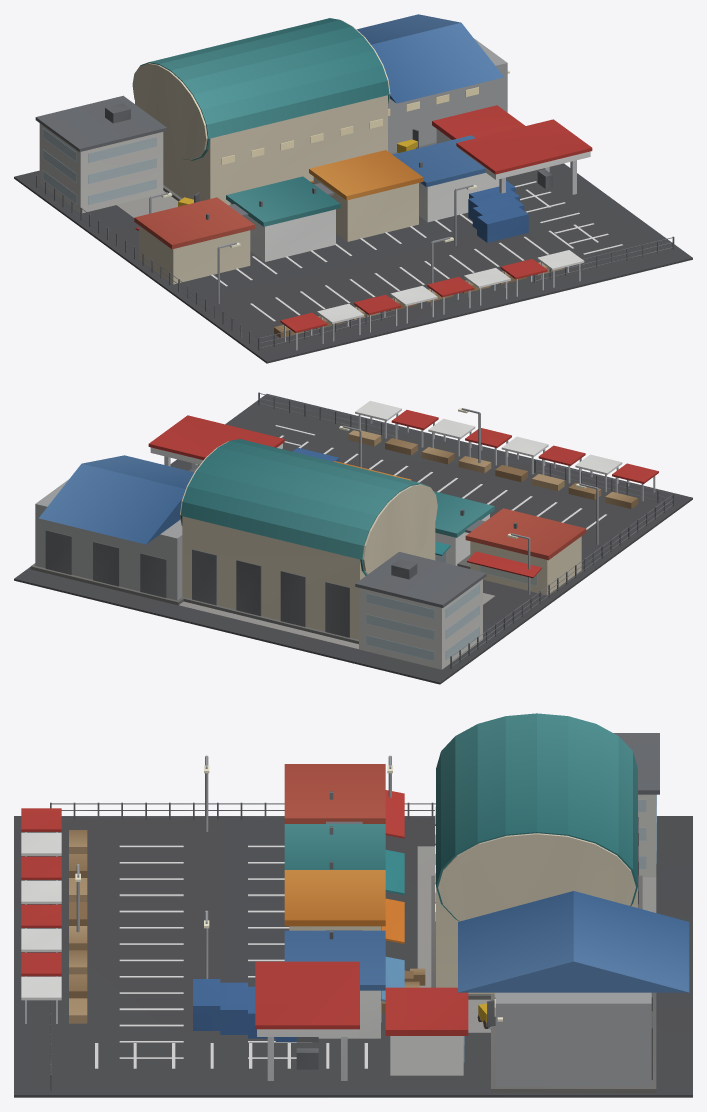
Rendered from Market_P3.fbx.
3 views of the same model, one above another, from view 1: azimuth 30°, elevation 25°; view 2: azimuth 150°, elevation 25°; view 3: azimuth 270°, elevation 25° (orthographic). The views are drawn at different scales.
Visible parts, largest first — view 1: Market.Pad, Market.WH1, Market.WH2, Market.Office, Market.Shop0, Market.Shop2, Market.Shop1, Market.Stalls, Market.Fuel, Market.Shop3, Market.Fence, Market.Goods (+2 smaller); view 2: Market.WH1, Market.Pad, Market.WH2, Market.Office, Market.Stalls, Market.Shop0, Market.Fuel, Market.Fence, Market.Shop1, Market.Bays; view 3: Market.Pad, Market.WH1, Market.WH2, Market.Stalls, Market.Fuel, Market.FuelShop, Market.Shop2, Market.Shop0, Market.Shop3, Market.Shop1, Market.Bays, Market.Goods (+2 smaller).
Part boxes in pixels (box(x1,y1,x2,y2)): Market.Pad: box(14, 163, 692, 363); Market.WH1: box(132, 18, 390, 205); Market.WH2: box(357, 14, 507, 154); Market.Office: box(35, 95, 166, 213); Market.Shop0: box(134, 197, 254, 284); Market.Shop2: box(309, 150, 423, 241); Market.Shop1: box(226, 176, 340, 261); Market.Stalls: box(274, 250, 584, 350); Market.Fuel: box(456, 119, 592, 194); Market.Shop3: box(392, 135, 499, 222); Market.Fence: box(36, 175, 674, 350); Market.Goods: box(468, 180, 528, 242); Market.WH1: box(180, 439, 437, 643); Market.Pad: box(14, 394, 692, 684); Market.WH2: box(30, 455, 194, 605); Market.Office: box(355, 552, 486, 669); Market.Stalls: box(348, 401, 658, 508); Market.Shop0: box(465, 508, 586, 595); Market.Fuel: box(148, 415, 284, 472); Market.Fence: box(258, 392, 674, 668); Market.Shop1: box(434, 491, 494, 565); Market.Bays: box(275, 425, 606, 529); Market.Pad: box(14, 816, 692, 1097); Market.WH1: box(431, 713, 642, 999); Market.WH2: box(458, 891, 689, 1092); Market.Stalls: box(21, 808, 87, 1023); Market.Fuel: box(255, 961, 359, 1080); Market.FuelShop: box(385, 987, 468, 1075); Market.Shop2: box(284, 870, 404, 943); Market.Shop0: box(284, 764, 404, 838); Market.Shop3: box(284, 930, 404, 1038); Market.Shop1: box(284, 824, 404, 894); Market.Bays: box(95, 845, 367, 1068); Market.Goods: box(193, 968, 425, 1041).
Bounding box in the file's own units: 7200 × 2041 × 7400.
